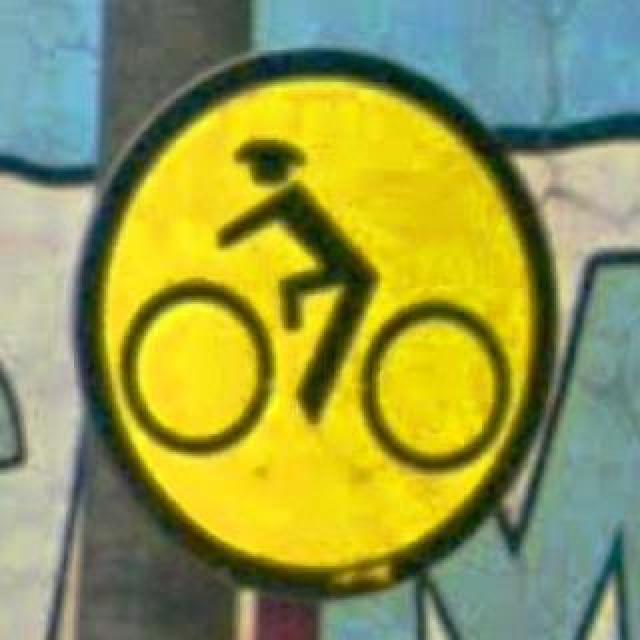bike lane: (74, 46, 558, 598)
